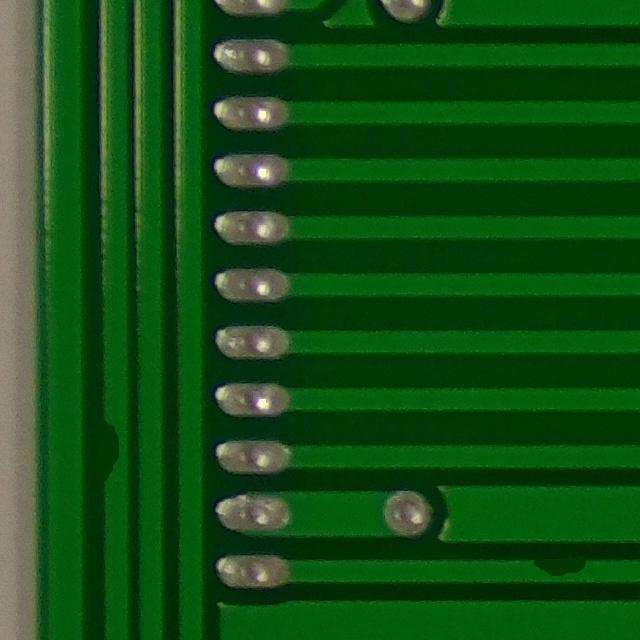mouse_bite: (520, 547, 603, 586), (94, 416, 128, 492)
